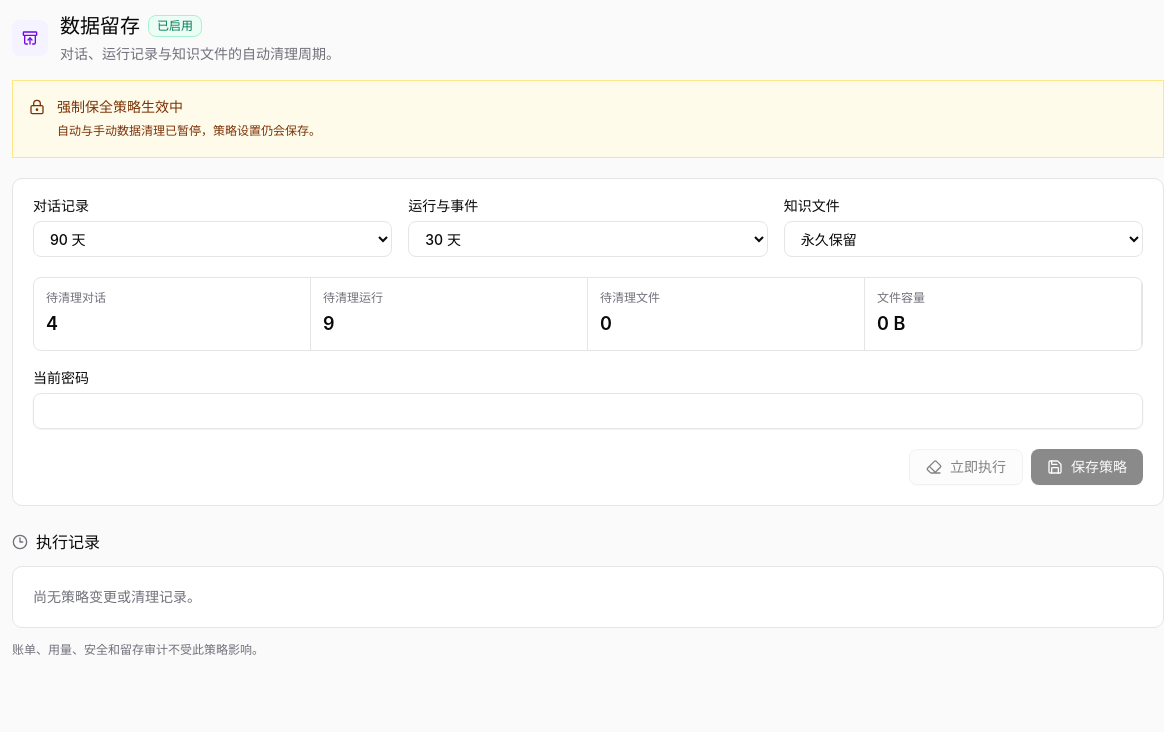
Scenario: RetentionSettingsSection › shows only a generic preservation notice when cleanup is blocked
Expected: the text "强制保全策略生效中" is shown, [57,98,183,115]
Type "current password" into the password field named "留存设置当前密码" at (588,411), box [33,393,1143,429]
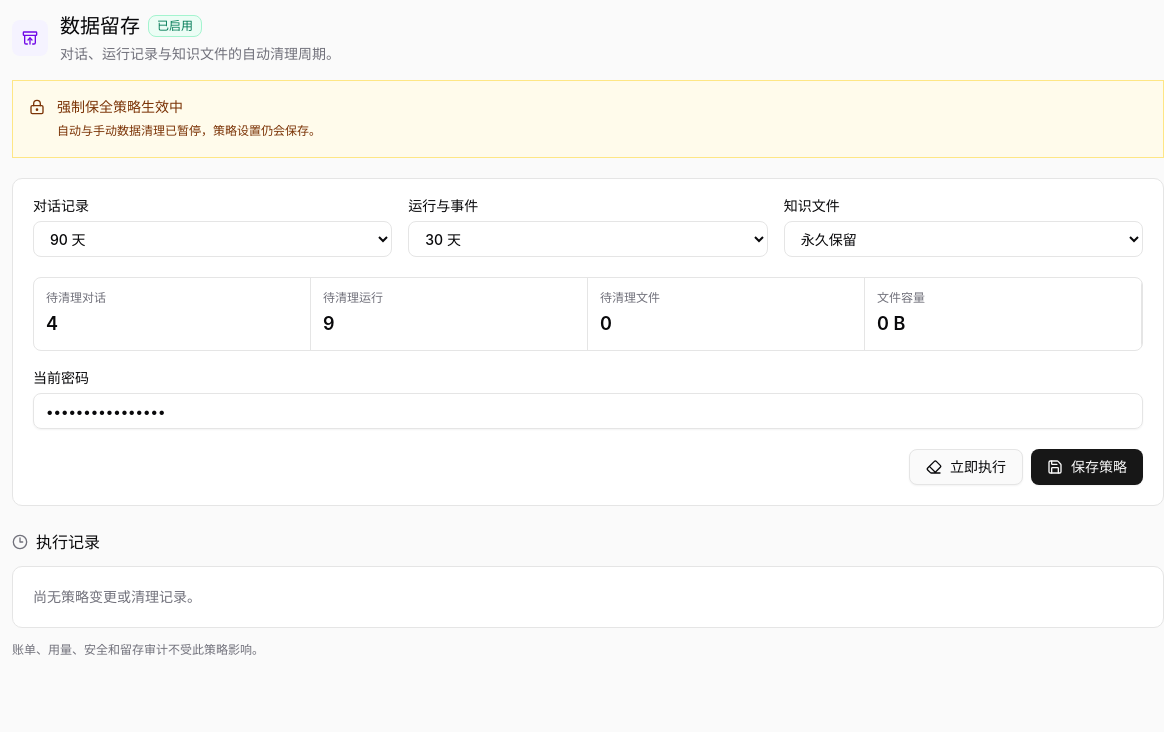
Click the button "立即执行" at (966,467), box [909,449,1023,485]
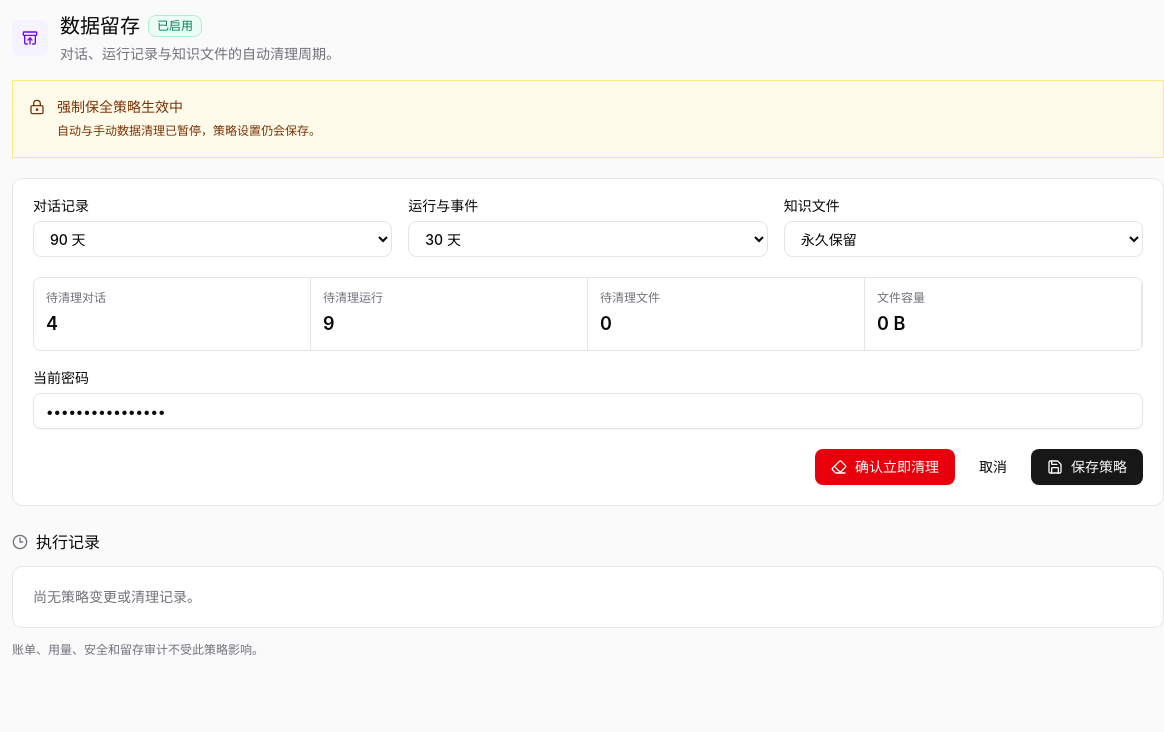
Click the button "确认立即清理" at (885,467), box [815,449,955,485]
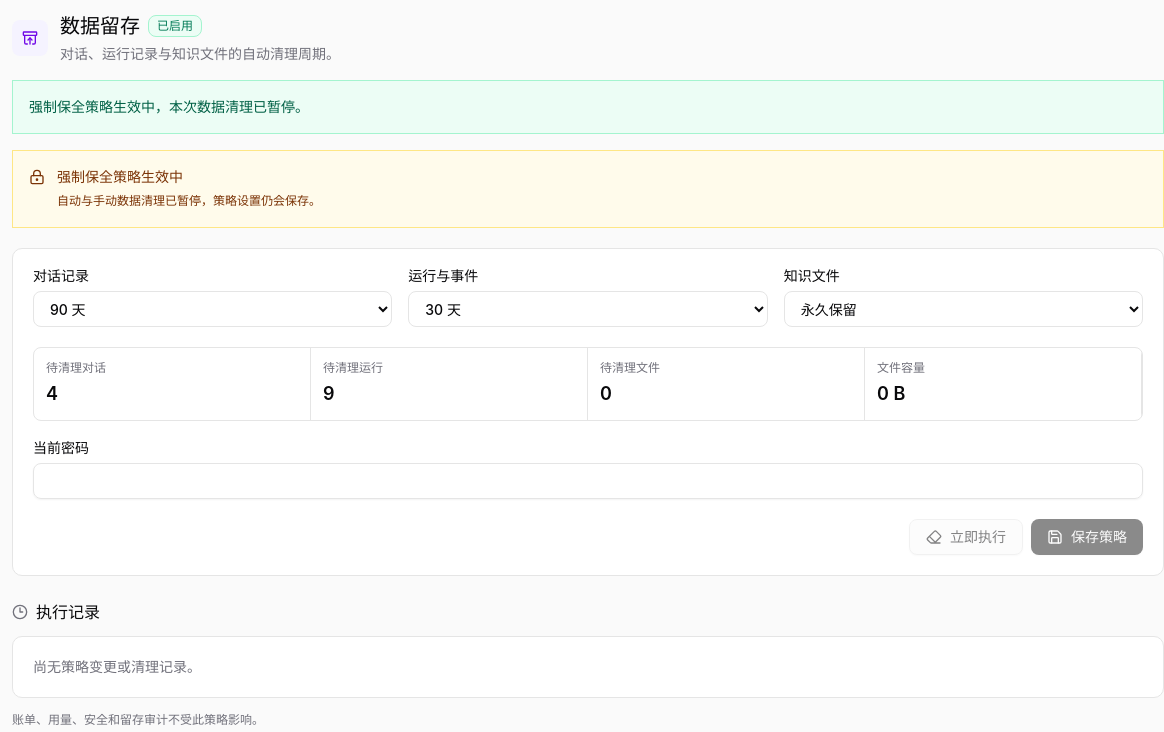
Expected: the text "强制保全策略生效中，本次数据清理已暂停。" is shown, [12,80,1163,134]
